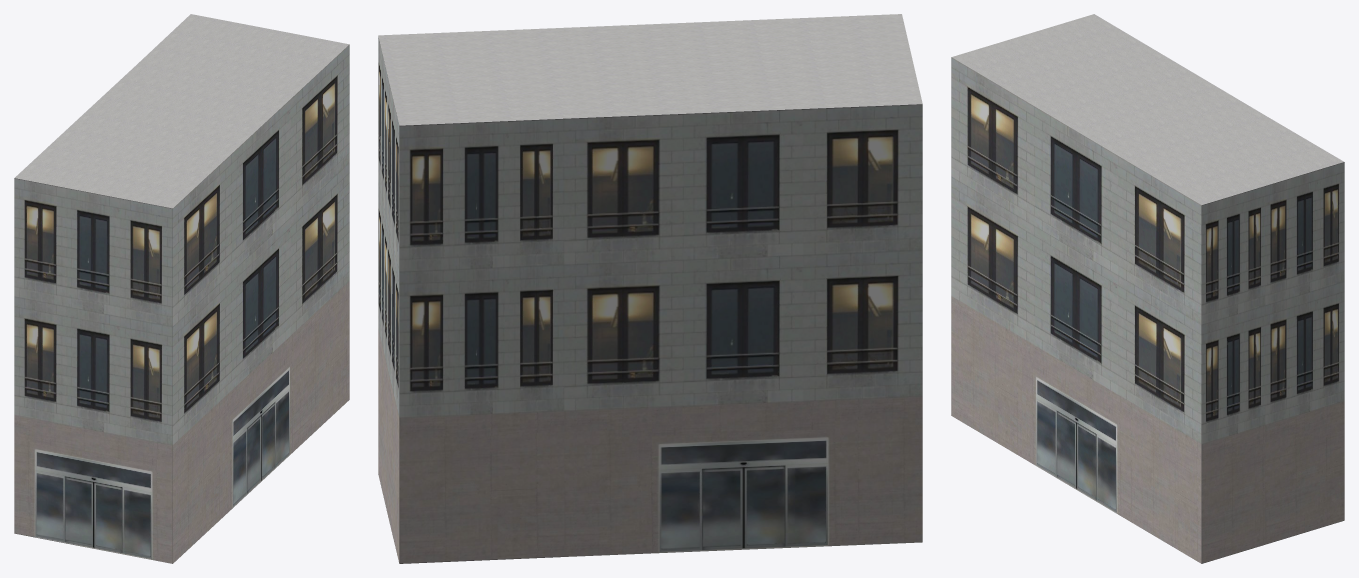
3 views of the same model, side by side, from view 1: azimuth 30°, elevation 25°; view 2: azimuth 150°, elevation 25°; view 3: azimuth 270°, elevation 25° (orthographic). The views are drawn at different scales.
Visible parts, largest first — view 1: BuildingMaster_1998193504384461805400000000_0, BuildingMaster_1998193504384461805400000000_1; view 2: BuildingMaster_1998193504384461805400000000_0, BuildingMaster_1998193504384461805400000000_1; view 3: BuildingMaster_1998193504384461805400000000_0, BuildingMaster_1998193504384461805400000000_1.
Part boxes in pixels (x1,y1,x2,y2): BuildingMaster_1998193504384461805400000000_0: (14, 44, 349, 563); BuildingMaster_1998193504384461805400000000_1: (15, 14, 348, 208); BuildingMaster_1998193504384461805400000000_0: (378, 37, 922, 563); BuildingMaster_1998193504384461805400000000_1: (378, 14, 922, 125); BuildingMaster_1998193504384461805400000000_0: (951, 57, 1344, 563); BuildingMaster_1998193504384461805400000000_1: (951, 14, 1343, 205).
Bounding box in the file's own units: 12.01 × 10.5 × 10.43.
2 materials, 2 textured.
